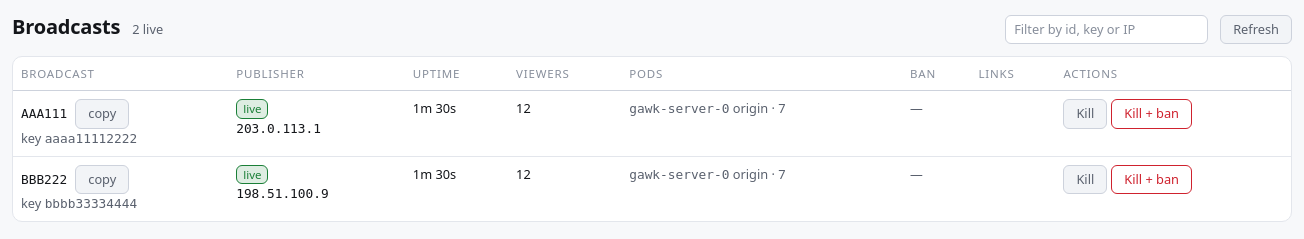
it: the filter › narrows by id, key or publisher IP, case-insensitively
Expected: the text "AAA111" is shown, x1=21 y1=104 x2=67 y2=124
Type "bbb2" into the search field named "Filter broadcasts" at coordinates (1107, 30), box x1=1005 y1=15 x2=1208 y2=44
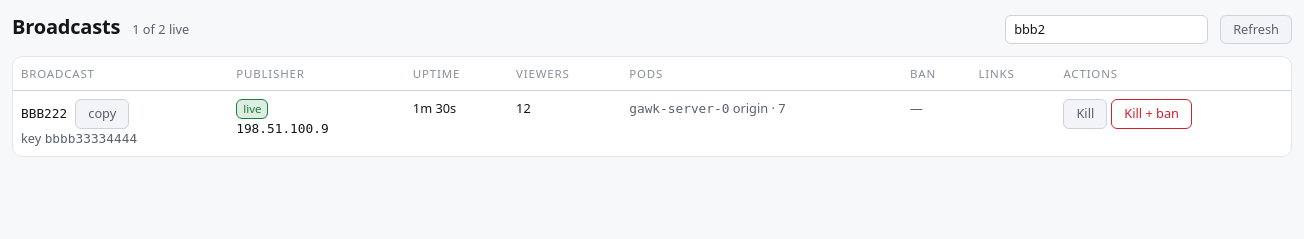
Expected: the text "BBB222" is shown, x1=21 y1=104 x2=67 y2=124
Expected: the text "AAA111" is gone
Replace the text in the search field named "Filter broadcasts" with "aaaa1111" at coordinates (1107, 30), box x1=1005 y1=15 x2=1208 y2=44
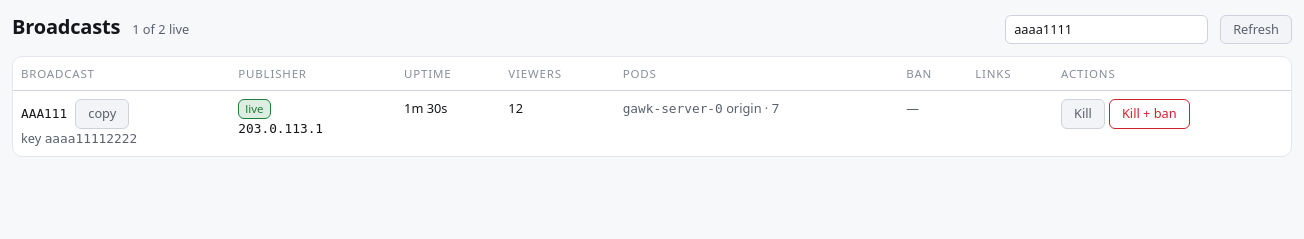
Expected: the text "AAA111" is shown, x1=21 y1=104 x2=67 y2=124
Expected: the text "BBB222" is gone
Replace the text in the search field named "Filter broadcasts" with "198.51.100.9" at coordinates (1107, 30), box x1=1005 y1=15 x2=1208 y2=44
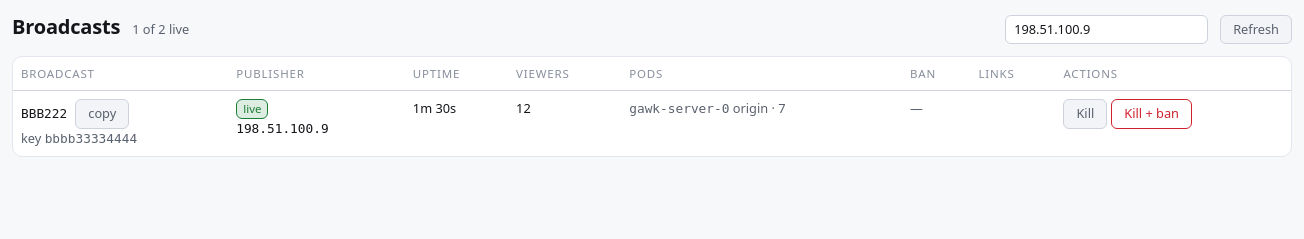
Expected: the text "BBB222" is shown, x1=21 y1=104 x2=67 y2=124
